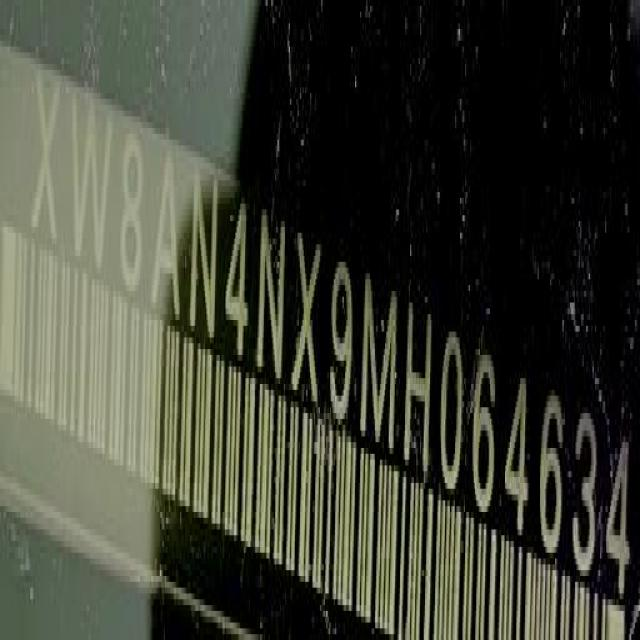0: (440, 326, 464, 498)
3: (574, 402, 598, 580)
4: (224, 192, 249, 364), (608, 425, 632, 602), (507, 371, 531, 544)
6: (540, 388, 567, 562), (472, 346, 498, 522)
8: (119, 127, 144, 296)
9: (328, 254, 354, 434)
A: (152, 155, 182, 324)
H: (402, 296, 433, 478)
M: (359, 282, 398, 458)
N: (255, 200, 287, 390), (191, 164, 220, 345)
W: (69, 103, 114, 278)
X: (31, 77, 62, 258), (295, 224, 322, 409)
